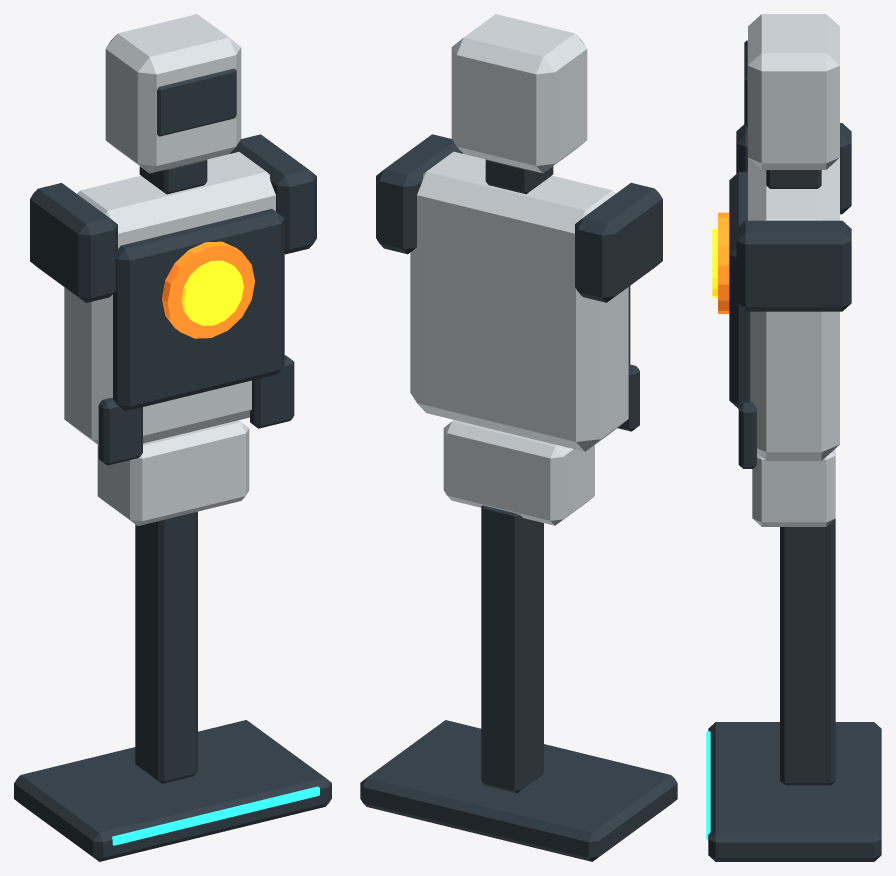
File: SM_TS_ArmoredTarget.fbx
The picture shows the model from 3 angles, left to right: view 1: azimuth 30°, elevation 25°; view 2: azimuth 150°, elevation 25°; view 3: azimuth 270°, elevation 25°; orthographic projection.
Parts seen in each view (by area): view 1: SM_TS_ArmoredTarget; view 2: SM_TS_ArmoredTarget; view 3: SM_TS_ArmoredTarget.
Boxes of the visible parts, x1,y1,x2,y2 form: SM_TS_ArmoredTarget: (14,14,331,861); SM_TS_ArmoredTarget: (360,14,677,861); SM_TS_ArmoredTarget: (706,14,881,861).
Size of the model in its own units: 60 by 38 by 185.
